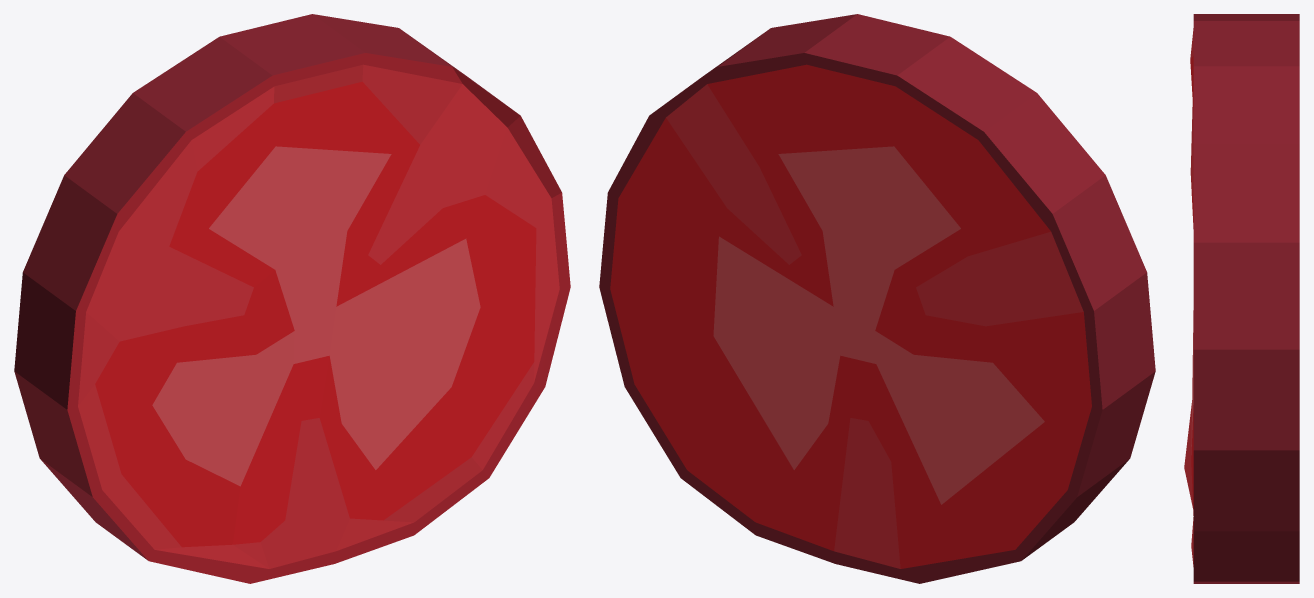
The model's file is tomato_2.fbx.
The picture shows the model from 3 angles, left to right: view 1: azimuth 30°, elevation 25°; view 2: azimuth 150°, elevation 25°; view 3: azimuth 270°, elevation 25°; orthographic projection.
Visible parts, largest first — view 1: Cylinder.001; view 2: Cylinder.001; view 3: Cylinder.001.
Boxes of the visible parts, x1,y1,x2,y2 form: Cylinder.001: (14, 14, 570, 583); Cylinder.001: (599, 14, 1155, 583); Cylinder.001: (1184, 14, 1299, 583).
Bounding box in the file's own units: 5253 × 5022 × 1046.
